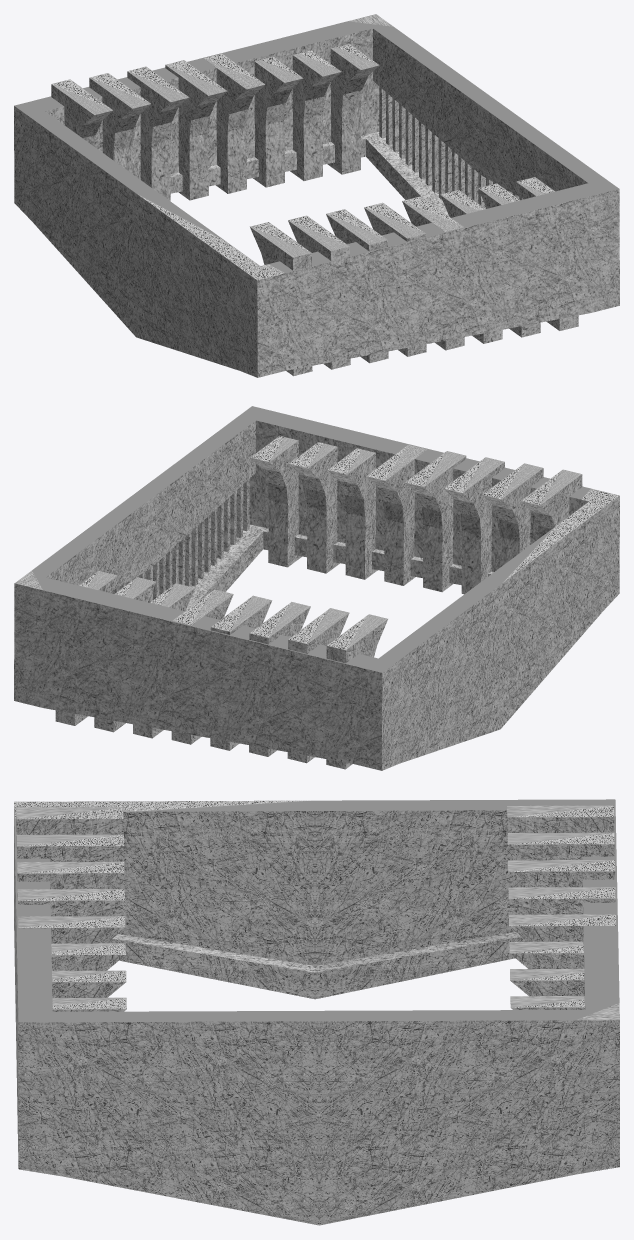
The model's file is hull4.glb.
The picture shows the model from 3 angles, top to bottom: view 1: azimuth 30°, elevation 25°; view 2: azimuth 150°, elevation 25°; view 3: azimuth 270°, elevation 25°; orthographic projection. The views are drawn at different scales.
Parts seen in each view (by area): view 1: Object_0; view 2: Object_0; view 3: Object_0.
Part boxes in pixels (x1,y1,x2,y2): Object_0: (14,14,619,377); Object_0: (14,406,619,770); Object_0: (14,799,619,1225).
Size of the model in its own units: 14.38 by 6.51 by 16.36.
1 material, 1 textured.
